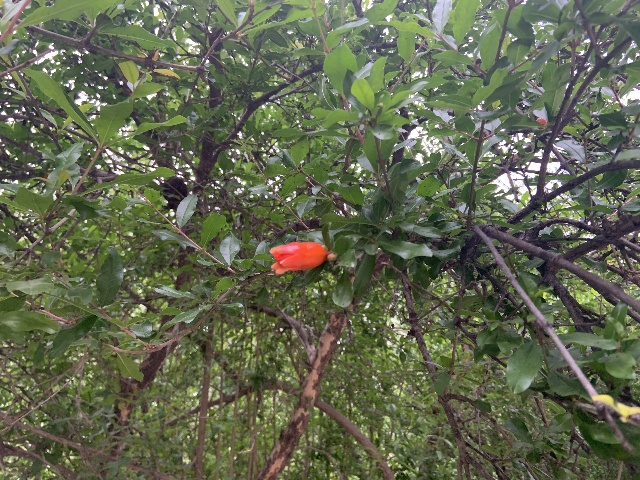bud: (536, 117, 547, 129)
flower: (269, 241, 327, 274)
